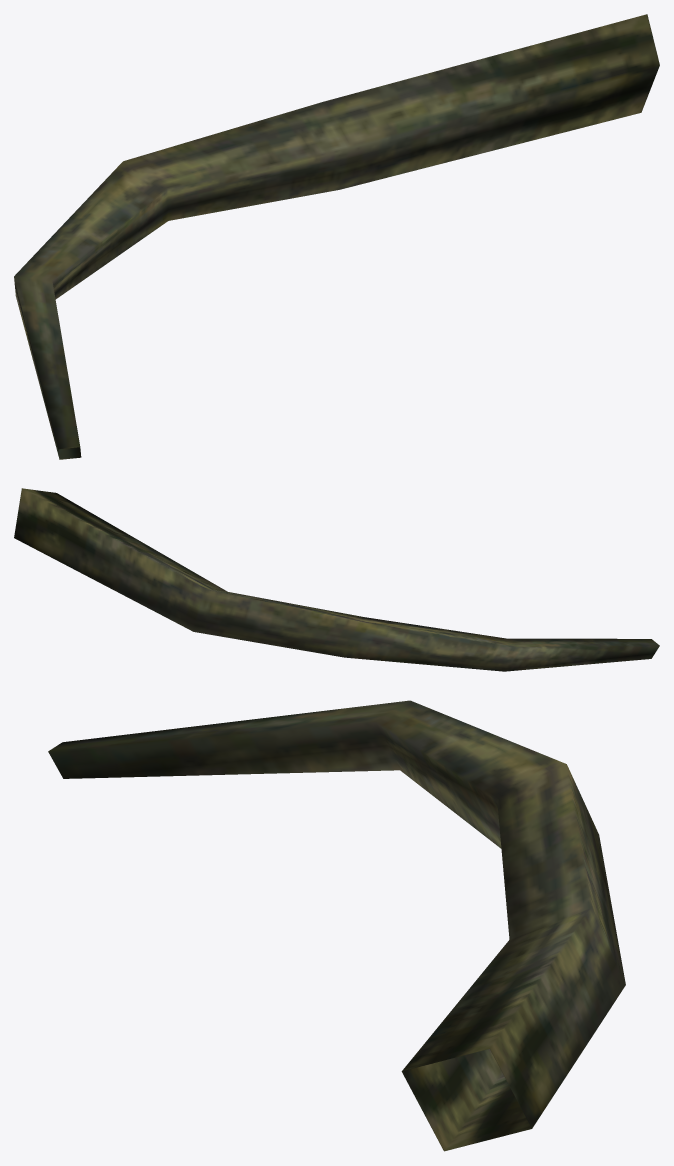
File: OVERHILL_A_01_LINE342.fbx
3 renders of one model, top to bottom at view 1: azimuth 30°, elevation 25°; view 2: azimuth 150°, elevation 25°; view 3: azimuth 270°, elevation 25°, orthographic. The views are drawn at different scales.
Parts seen in each view (by area): view 1: OVERHILL_A_01_LINE342; view 2: OVERHILL_A_01_LINE342; view 3: OVERHILL_A_01_LINE342.
Part boxes in pixels (x1=…): OVERHILL_A_01_LINE342: x1=14, y1=14, x2=659, y2=459; OVERHILL_A_01_LINE342: x1=14, y1=488, x2=659, y2=671; OVERHILL_A_01_LINE342: x1=48, y1=700, x2=625, y2=1151.
Bounding box in the file's own units: 11972 × 2529 × 5639.
1 material, 1 textured.
